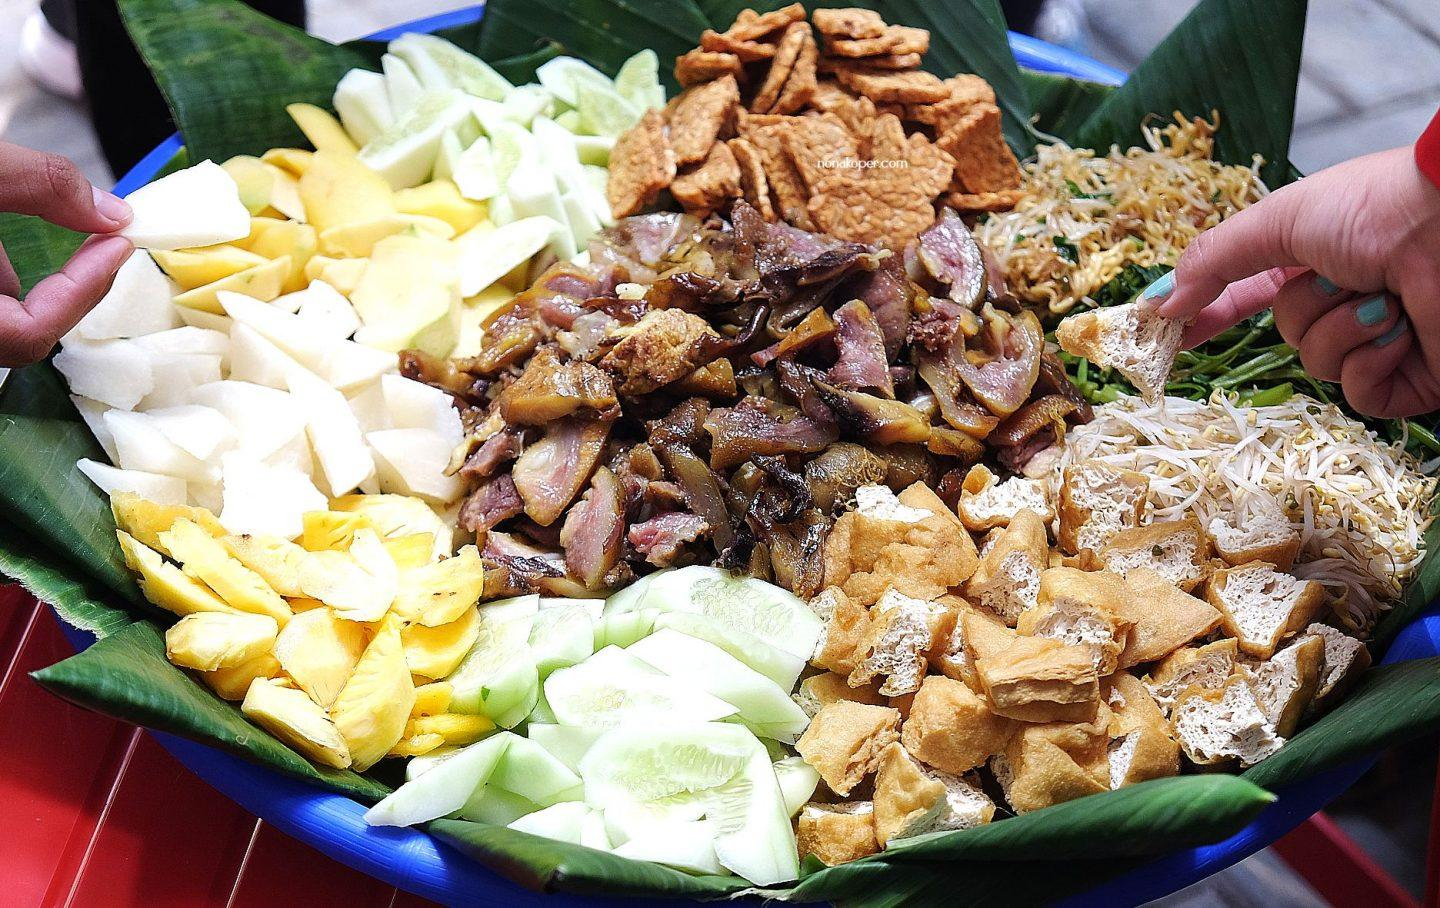rujak_cingur: (64, 9, 1428, 887)
